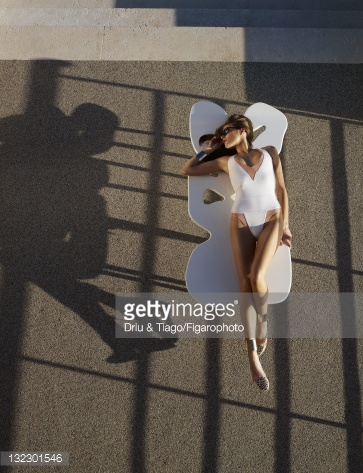deitado: (176, 104, 288, 305)
